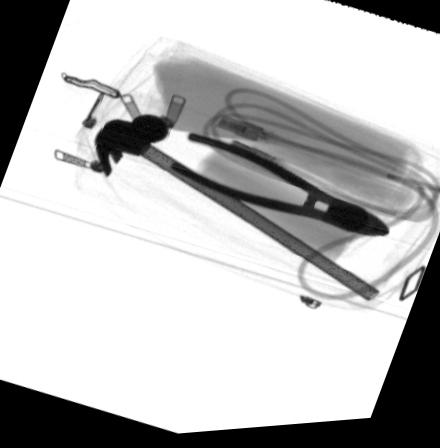Hammer: (94, 116, 381, 306)
Pliers: (171, 133, 389, 241)
